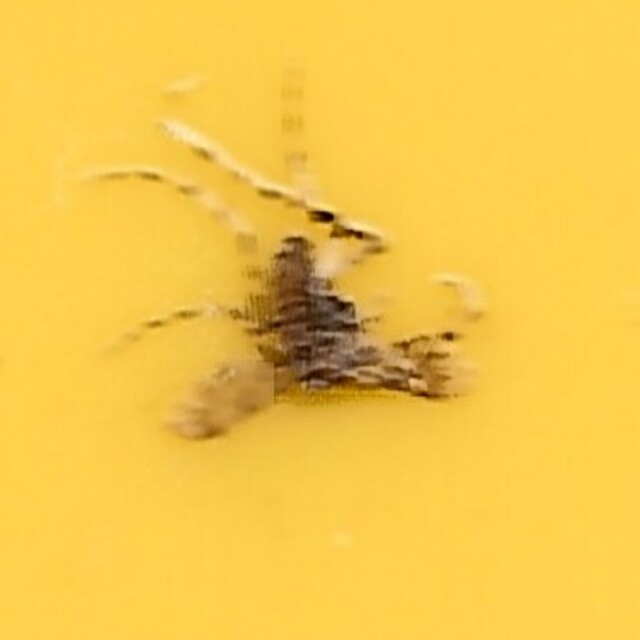Nematocera: (170, 201, 470, 439)
